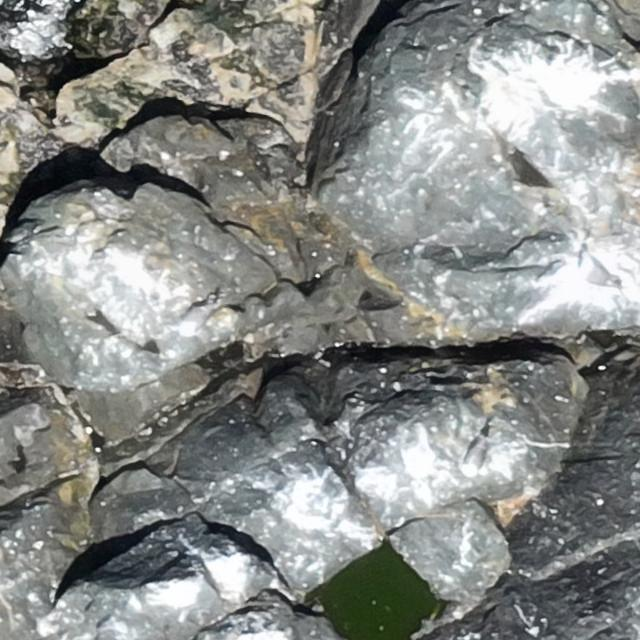umineko: (180, 301, 218, 336), (582, 252, 615, 291), (462, 436, 486, 478)
